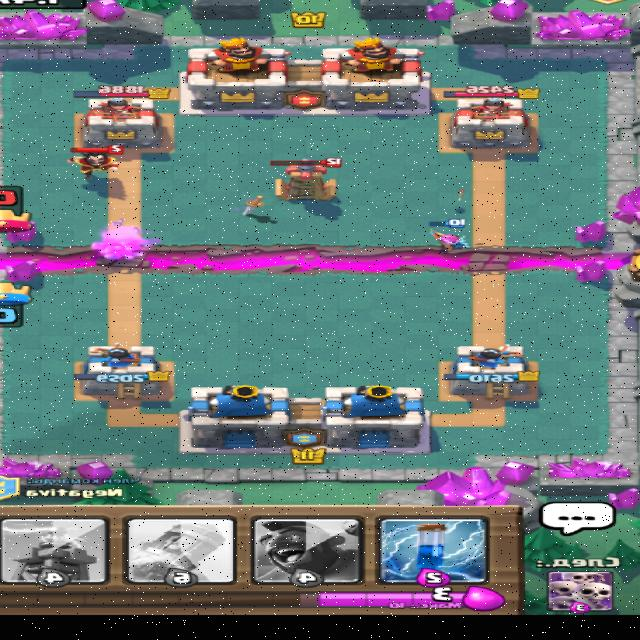Enemy-ElectroWizard: (68, 144, 128, 180)
Enemy-Tesla: (270, 156, 346, 201)
Player-Archer: (427, 219, 473, 254)
